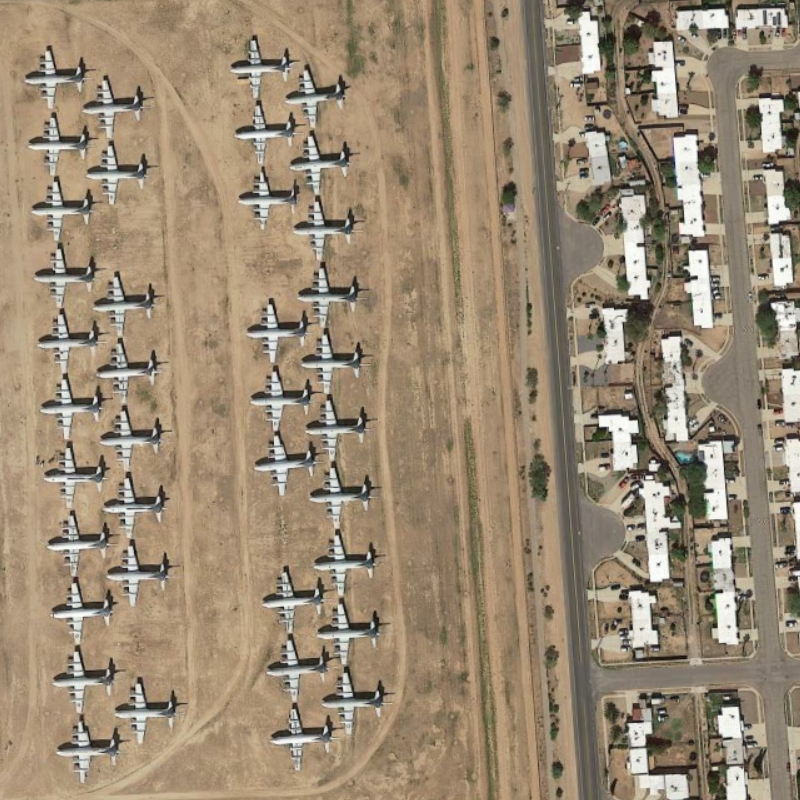A9: (93, 398, 175, 477), (315, 594, 400, 670), (306, 523, 386, 603), (287, 259, 370, 336), (320, 662, 400, 741), (241, 288, 314, 371), (256, 561, 332, 639), (290, 195, 370, 269), (228, 25, 301, 106), (48, 637, 121, 717), (111, 676, 187, 752), (25, 242, 102, 315), (265, 702, 343, 773), (245, 428, 320, 500), (21, 36, 90, 114), (261, 633, 337, 703), (304, 392, 377, 464), (32, 307, 107, 377), (24, 111, 96, 183), (305, 459, 377, 531), (105, 542, 179, 612), (246, 362, 315, 437), (93, 266, 161, 342), (231, 95, 299, 171), (47, 717, 126, 782), (38, 369, 109, 440), (99, 475, 174, 542), (38, 442, 109, 512), (300, 327, 371, 397), (287, 129, 359, 198), (85, 139, 155, 209), (231, 166, 301, 236), (37, 511, 108, 580), (48, 577, 120, 645), (26, 177, 99, 244), (99, 337, 170, 405), (81, 76, 155, 138), (286, 64, 354, 129)
